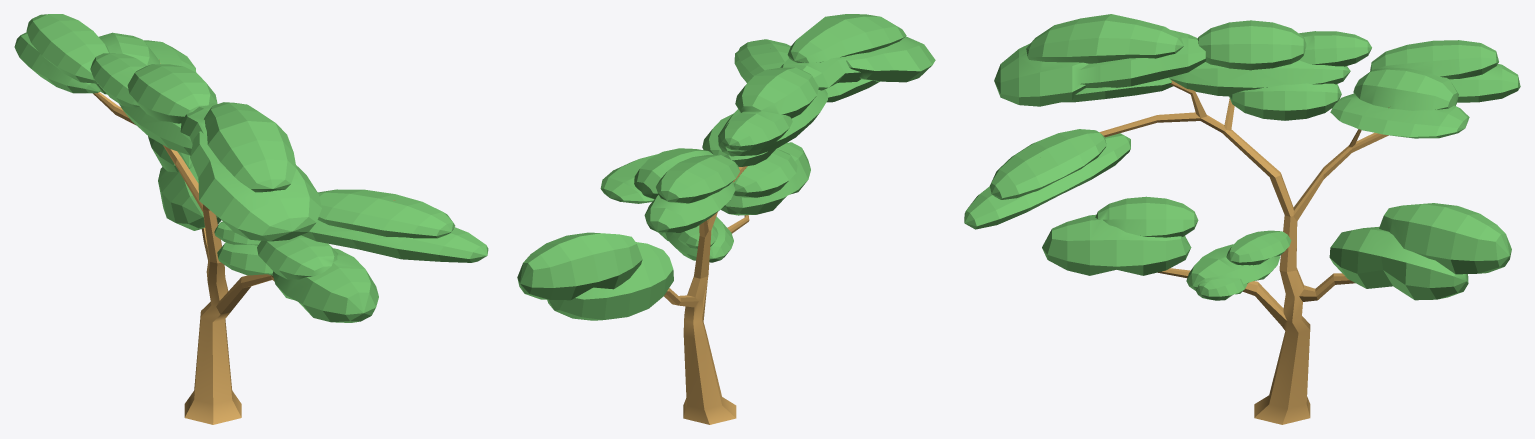
The model's file is Tree1.fbx.
3 views of the same model, side by side, from view 1: azimuth 30°, elevation 25°; view 2: azimuth 150°, elevation 25°; view 3: azimuth 270°, elevation 25° (orthographic). The views are drawn at different scales.
Visible parts, largest first — view 1: Tree_Leaves_13; view 2: Tree_Leaves_13; view 3: Tree_Leaves_13.
Part boxes in pixels (x1,y1,x2,y2): Tree_Leaves_13: (14, 14, 488, 424); Tree_Leaves_13: (517, 14, 935, 424); Tree_Leaves_13: (964, 14, 1520, 424).
Bounding box in the file's own units: 292 × 428 × 592.
